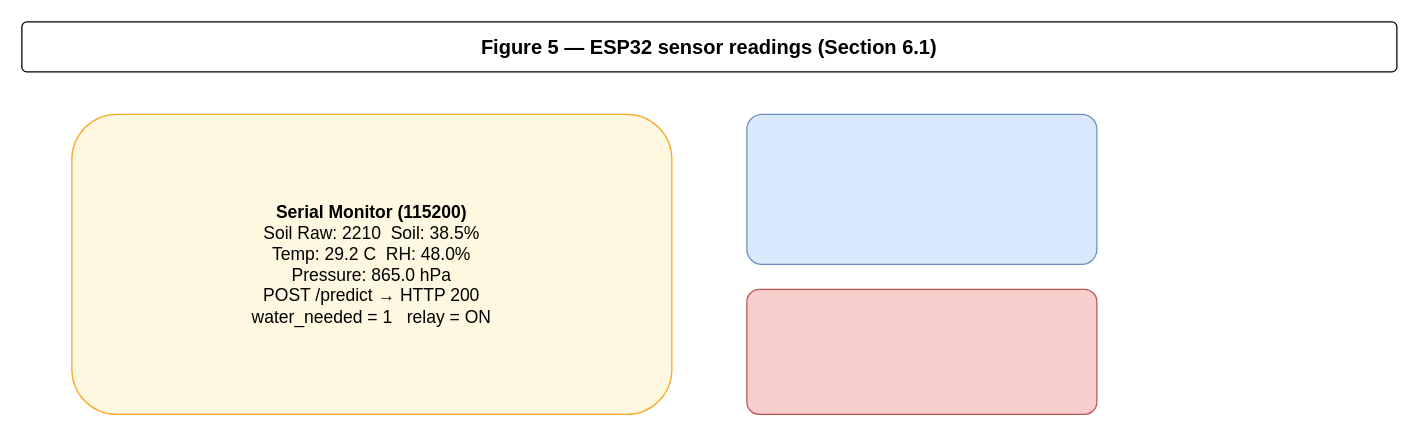
The diagram is 1419 pixels wide and 436 high, and some of its shapes have lost their labels. Each missing label, with the centre of its shape:
Firmware mapping 2 s samples 15 s rolling average JSON to API: point (921, 188)
If Soil stays 0% print Soil Raw and set DRY_SOIL / WET_SOIL: point (921, 351)
